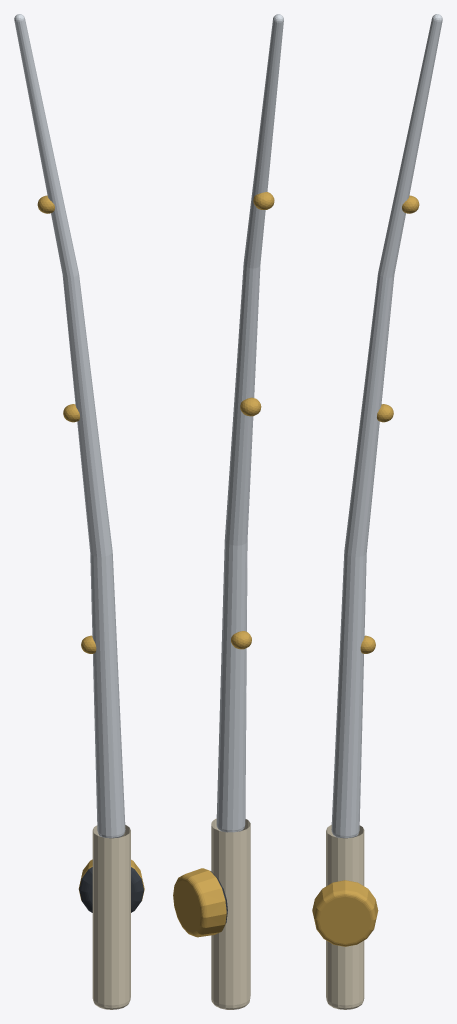
File: PropRod.obj
3 views of the same model, side by side, from view 1: azimuth 90°, elevation 25°; view 2: azimuth 210°, elevation 25°; view 3: azimuth 270°, elevation 25° (orthographic). The views are drawn at different scales.
Size of the model in its own units: 0.265 by 4.27 by 0.51.
